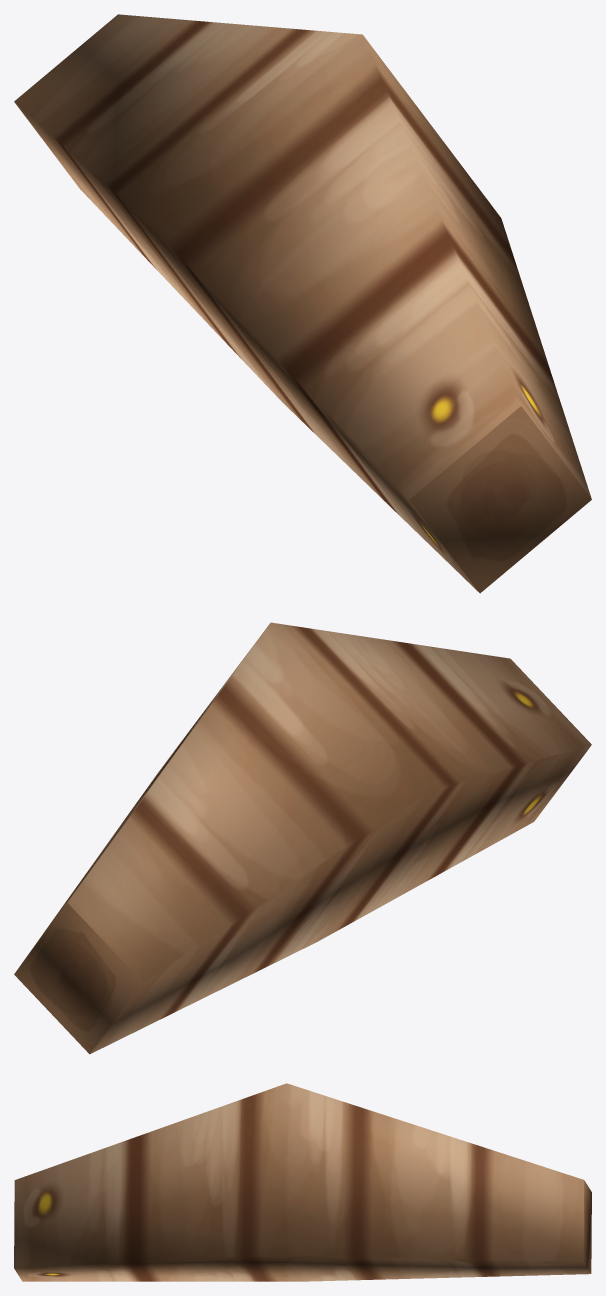
The model's file is maggot.fbx.
The picture shows the model from 3 angles, top to bottom: view 1: azimuth 30°, elevation 25°; view 2: azimuth 150°, elevation 25°; view 3: azimuth 270°, elevation 25°; orthographic projection. The views are drawn at different scales.
Visible parts, largest first — view 1: maggot; view 2: maggot; view 3: maggot.
Boxes of the visible parts, x1,y1,x2,y2 form: maggot: (14, 14, 591, 593); maggot: (14, 622, 591, 1054); maggot: (14, 1083, 591, 1281).
Bounding box in the file's own units: 0.448 × 0.4678 × 1.07.
